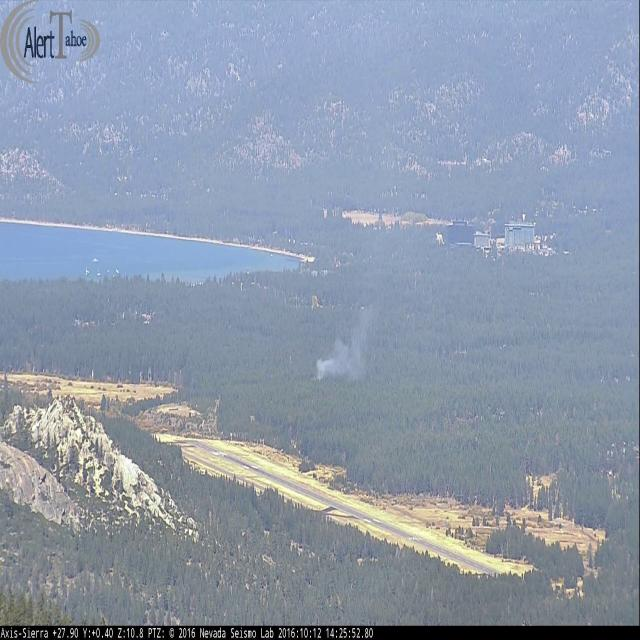smoke: (309, 298, 381, 386)
